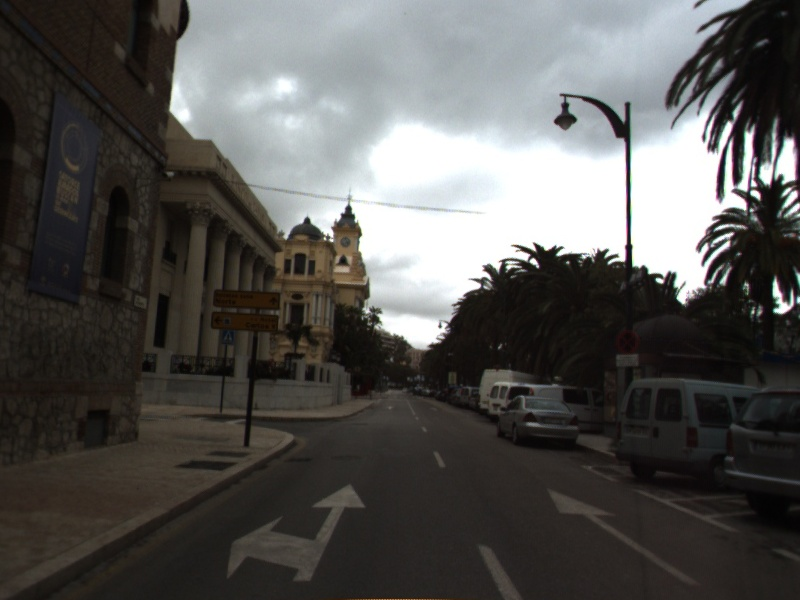STRAIGHT: (545, 486, 704, 588)
STRAIGHT_LEFT: (225, 481, 367, 583)
